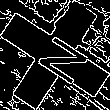N_NW: (23, 25, 87, 85)
